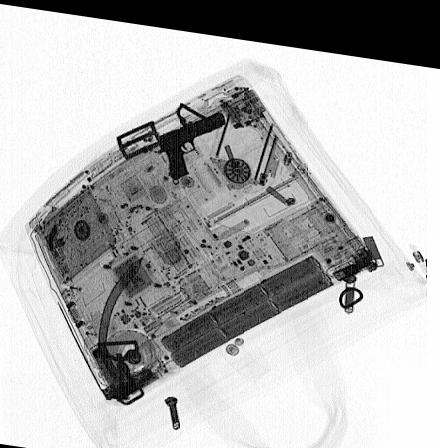Gun: (153, 104, 226, 173)
